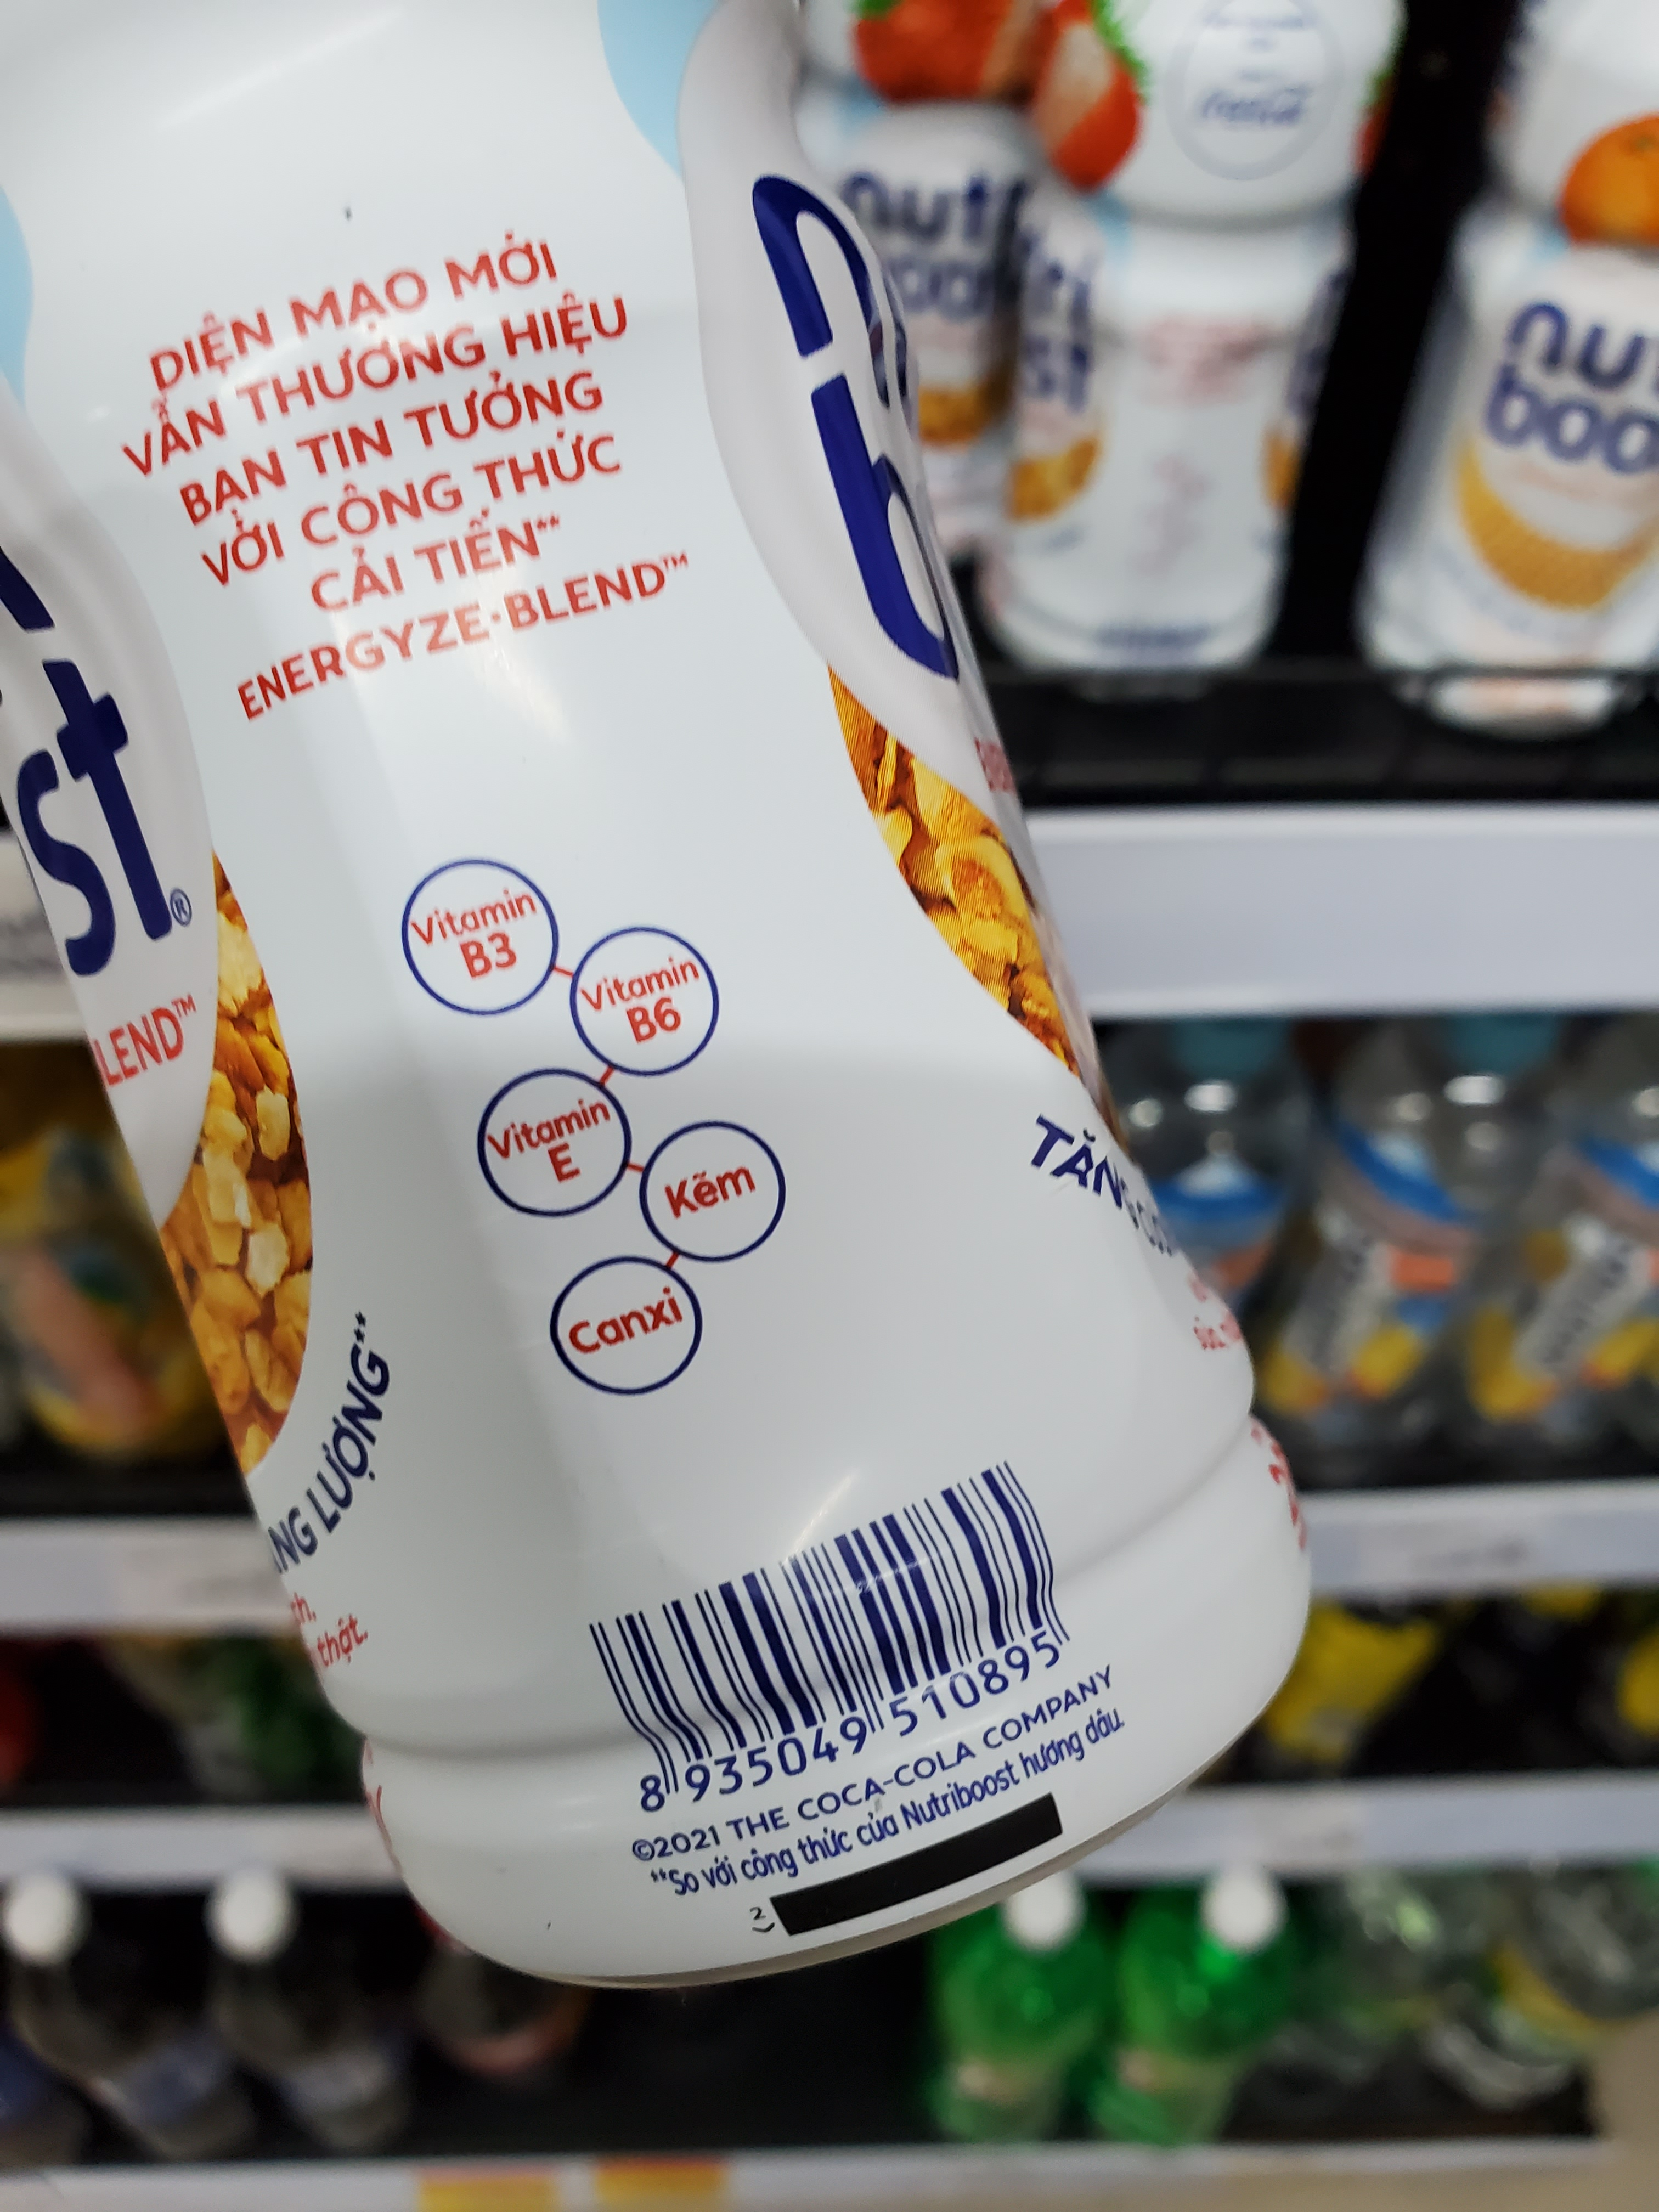barcode: (566, 1446, 1107, 1818)
